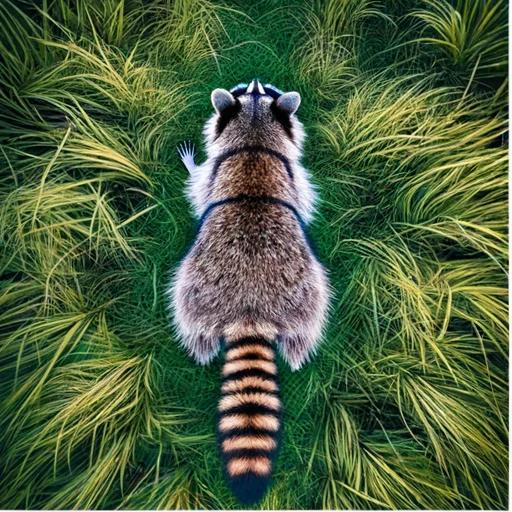raccoon: (152, 63, 349, 512)
